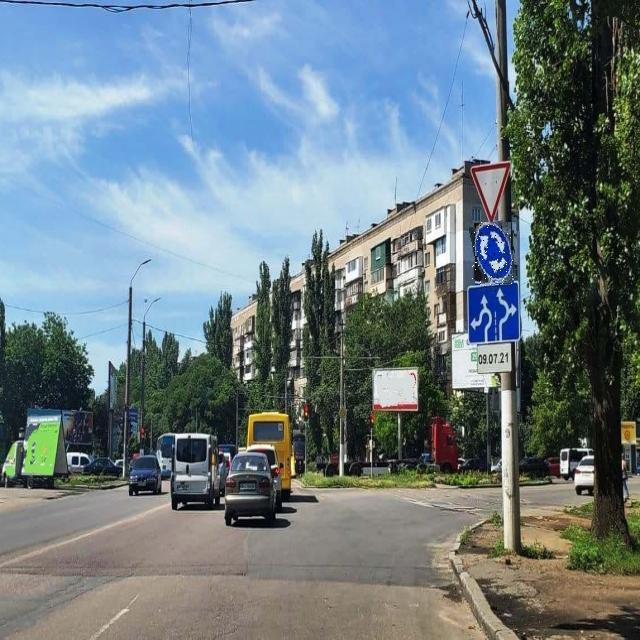roundabout: (471, 222, 514, 286)
